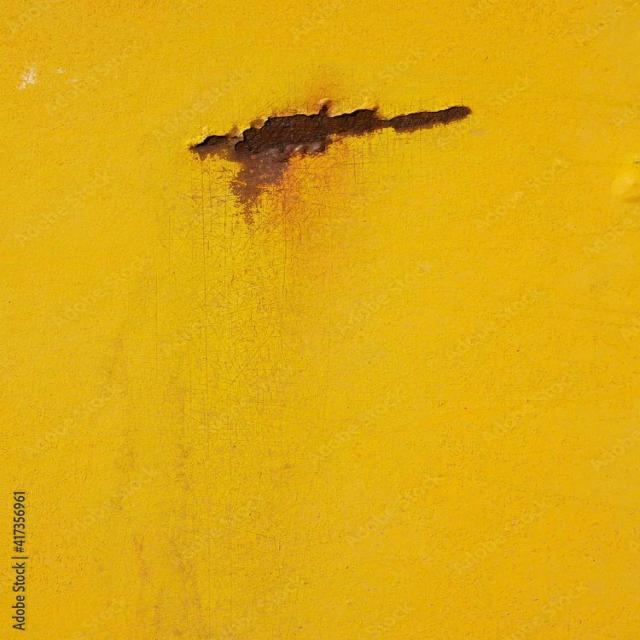Pitting Corrosion: (189, 100, 470, 211)
